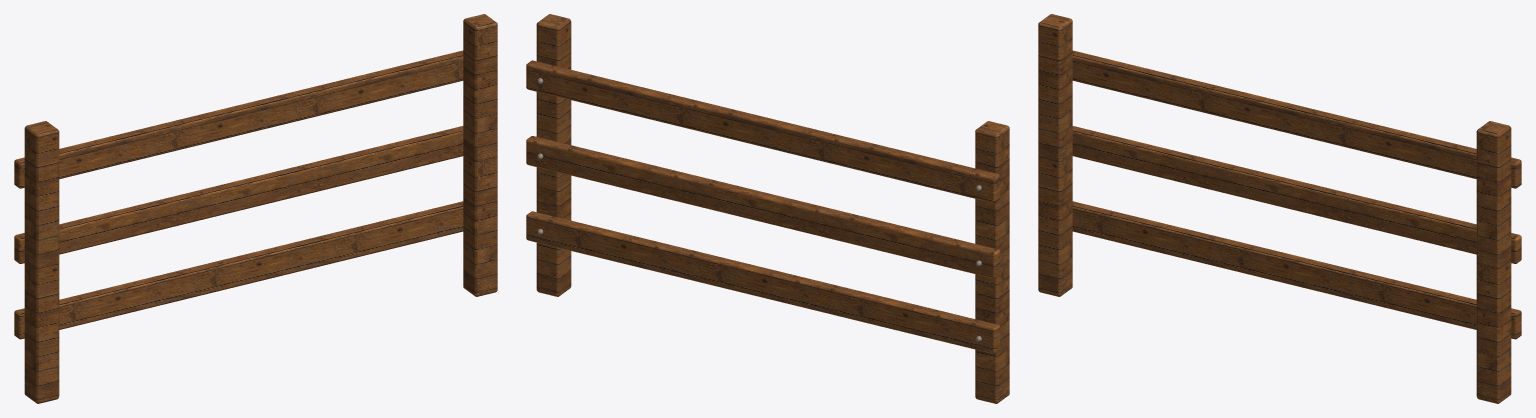
Rendered from fence-segment-v01.glb.
3 views of the same model, side by side, from view 1: azimuth 30°, elevation 25°; view 2: azimuth 150°, elevation 25°; view 3: azimuth 330°, elevation 25° (orthographic).
Parts seen in each view (by area): view 1: fence-segment; view 2: fence-segment; view 3: fence-segment.
Part boxes in pixels (left/top/right/bottom): fence-segment: left=14, top=14, right=497, bottom=403; fence-segment: left=526, top=14, right=1009, bottom=403; fence-segment: left=1038, top=14, right=1521, bottom=403.
Bounding box in the file's own units: 3 × 1.65 × 0.2411.
2 materials, 2 textured.
